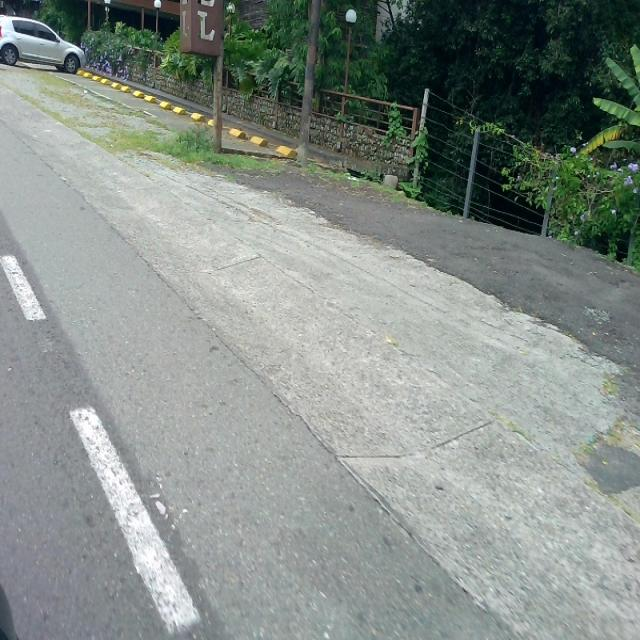DITCH: (2, 63, 638, 638)
